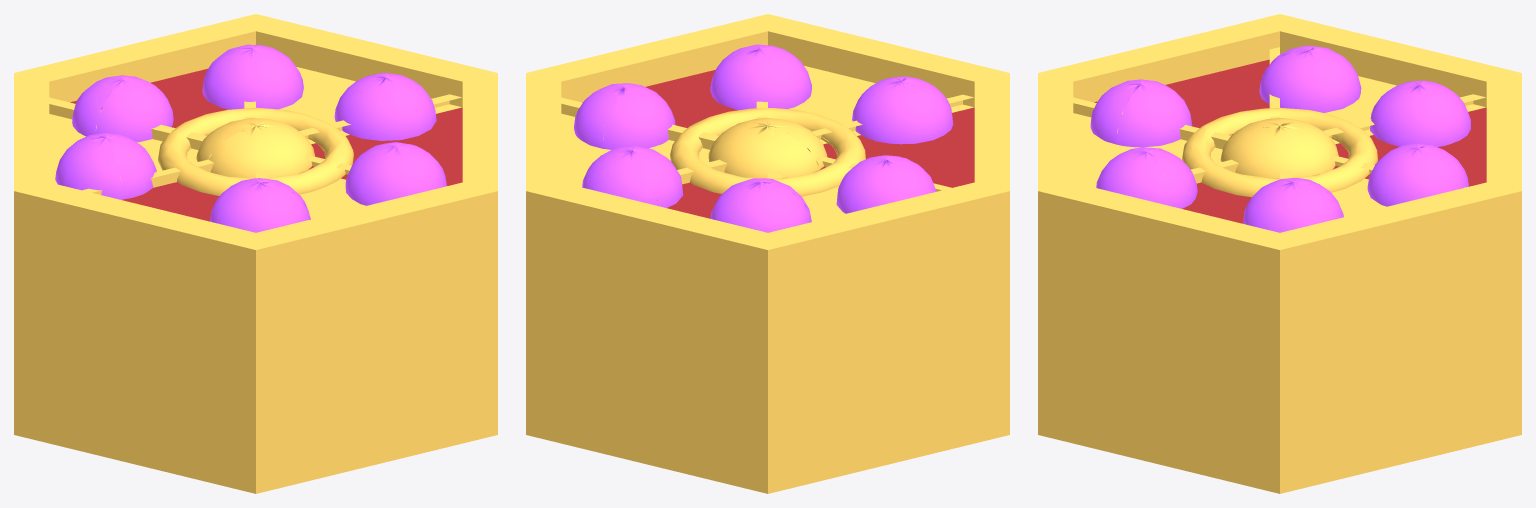
File: Gold_Brooch.glb
The picture shows the model from 3 angles, left to right: view 1: azimuth 30°, elevation 25°; view 2: azimuth 150°, elevation 25°; view 3: azimuth 270°, elevation 25°; orthographic projection.
Visible parts, largest first — view 1: Gold_Brooch; view 2: Gold_Brooch; view 3: Gold_Brooch.
Part boxes in pixels (x1,y1,x2,y2): Gold_Brooch: (14, 14, 497, 493); Gold_Brooch: (526, 14, 1009, 493); Gold_Brooch: (1038, 14, 1521, 493).
Bounding box in the file's own units: 0.45 × 0.2311 × 0.3897.
